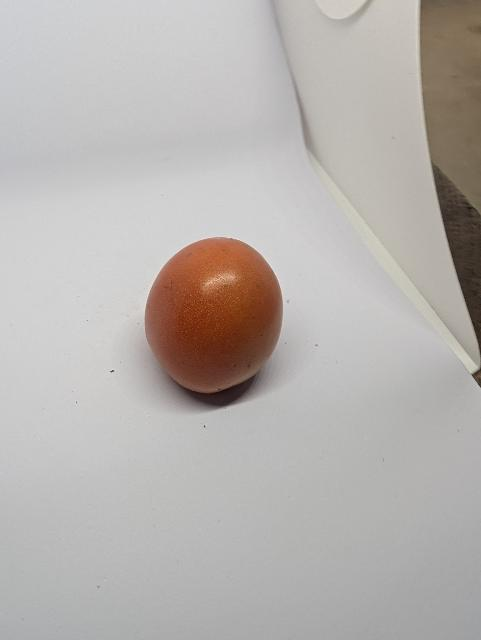red: (132, 226, 296, 416)
